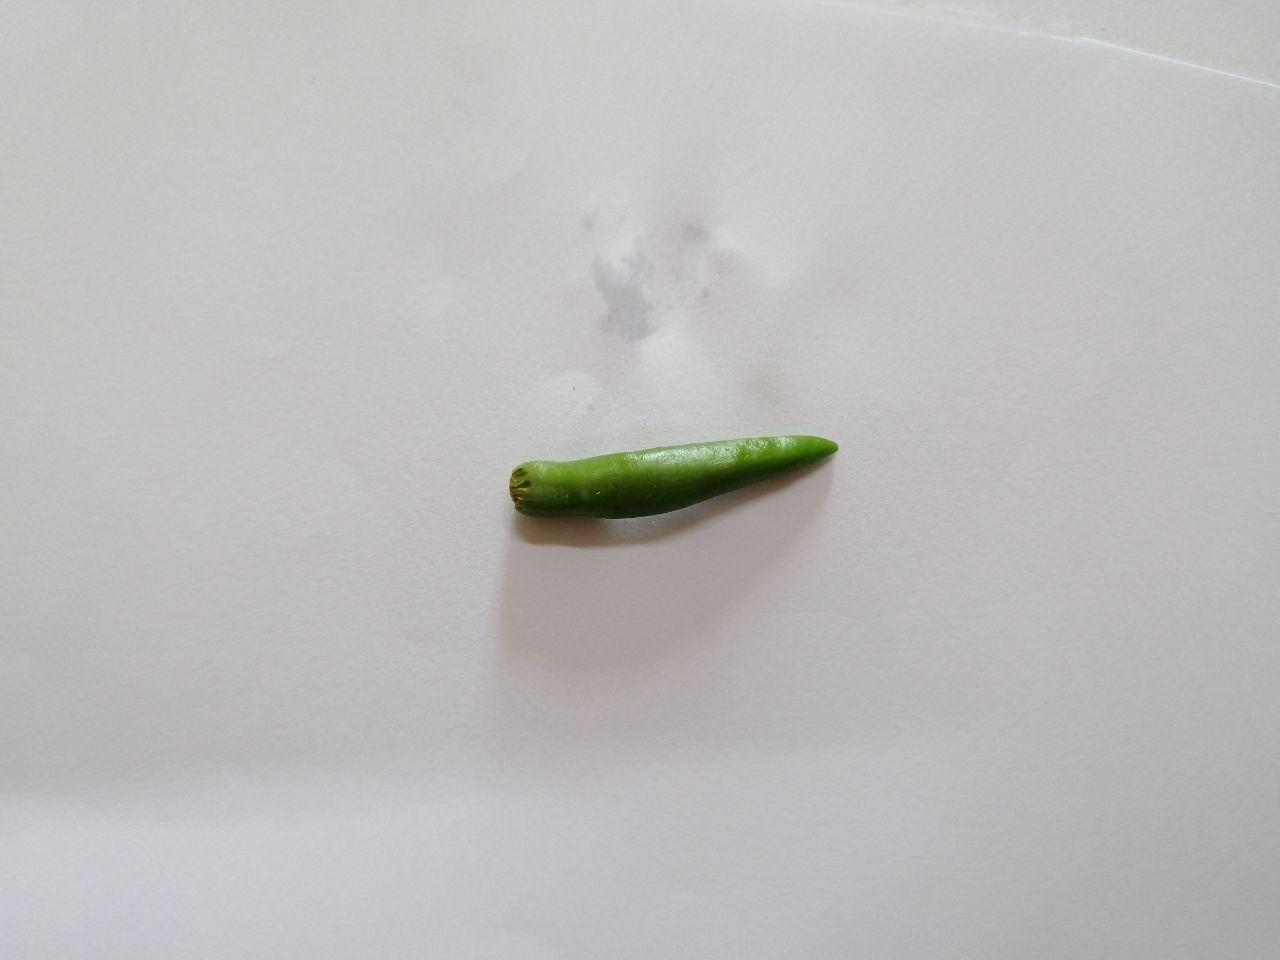lada hijau: (471, 414, 872, 542)
